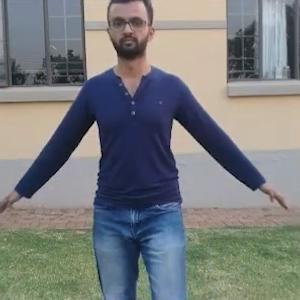land: (15, 14, 255, 297)
